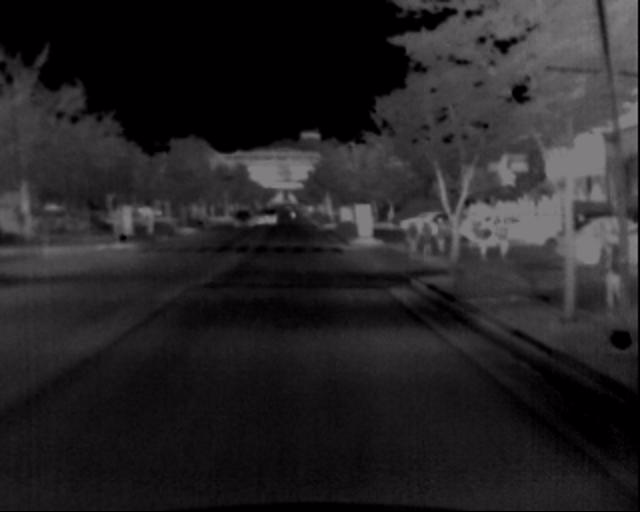person: (604, 220, 640, 313)
